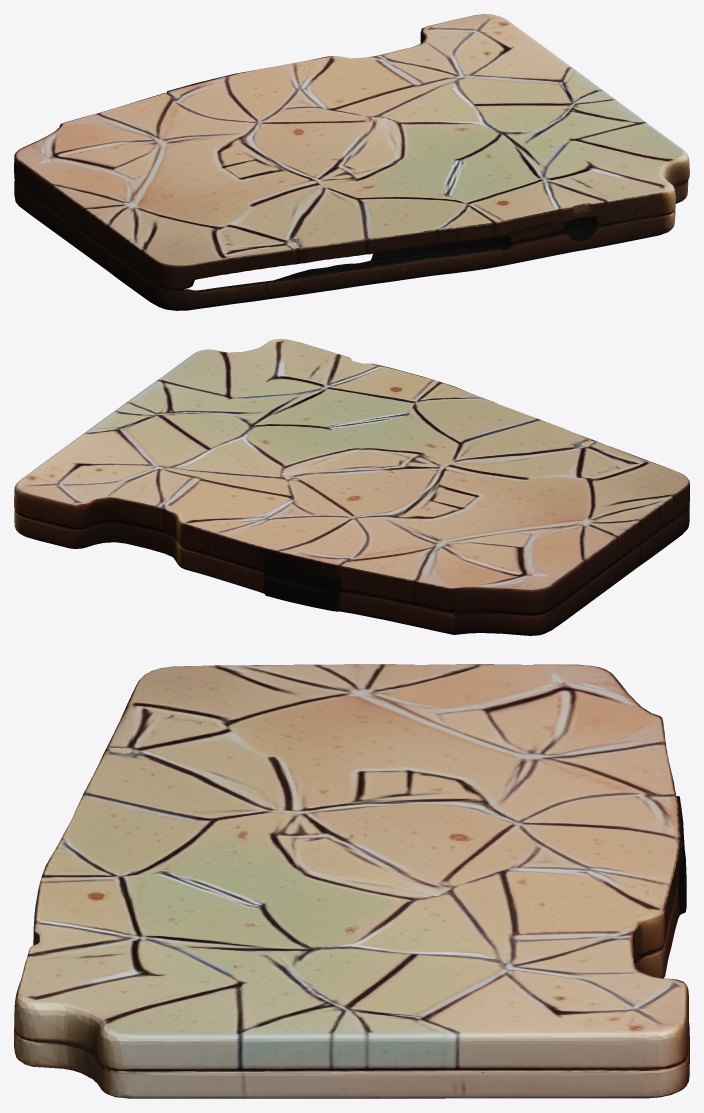
File: cork-business-card-holder-futuristic.jpeg.glb
3 renders of one model, top to bottom at view 1: azimuth 30°, elevation 25°; view 2: azimuth 150°, elevation 25°; view 3: azimuth 270°, elevation 25°, orthographic. The views are drawn at different scales.
Parts seen in each view (by area): view 1: world; view 2: world; view 3: world.
Boxes of the visible parts, x1=… form: world: x1=14, y1=14, x2=689, y2=310; world: x1=14, y1=339, x2=689, y2=635; world: x1=14, y1=664, x2=689, y2=1098.
Size of the model in its own units: 1 by 0.0867 by 0.7715.
Materials: 1 (1 with a texture image).
